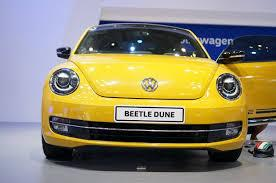volkswagen: (140, 70, 162, 94)
